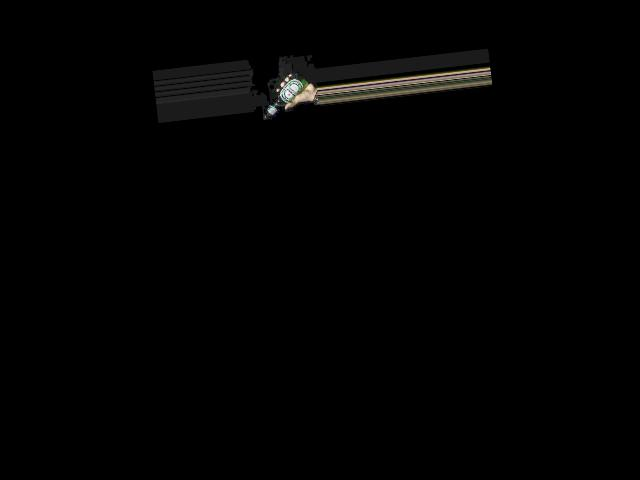beer: (257, 70, 314, 121)
